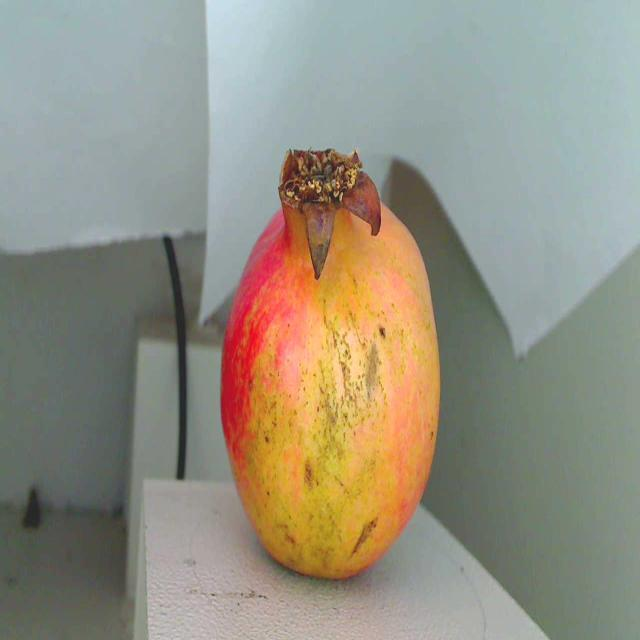pomegranate: (210, 124, 451, 594)
